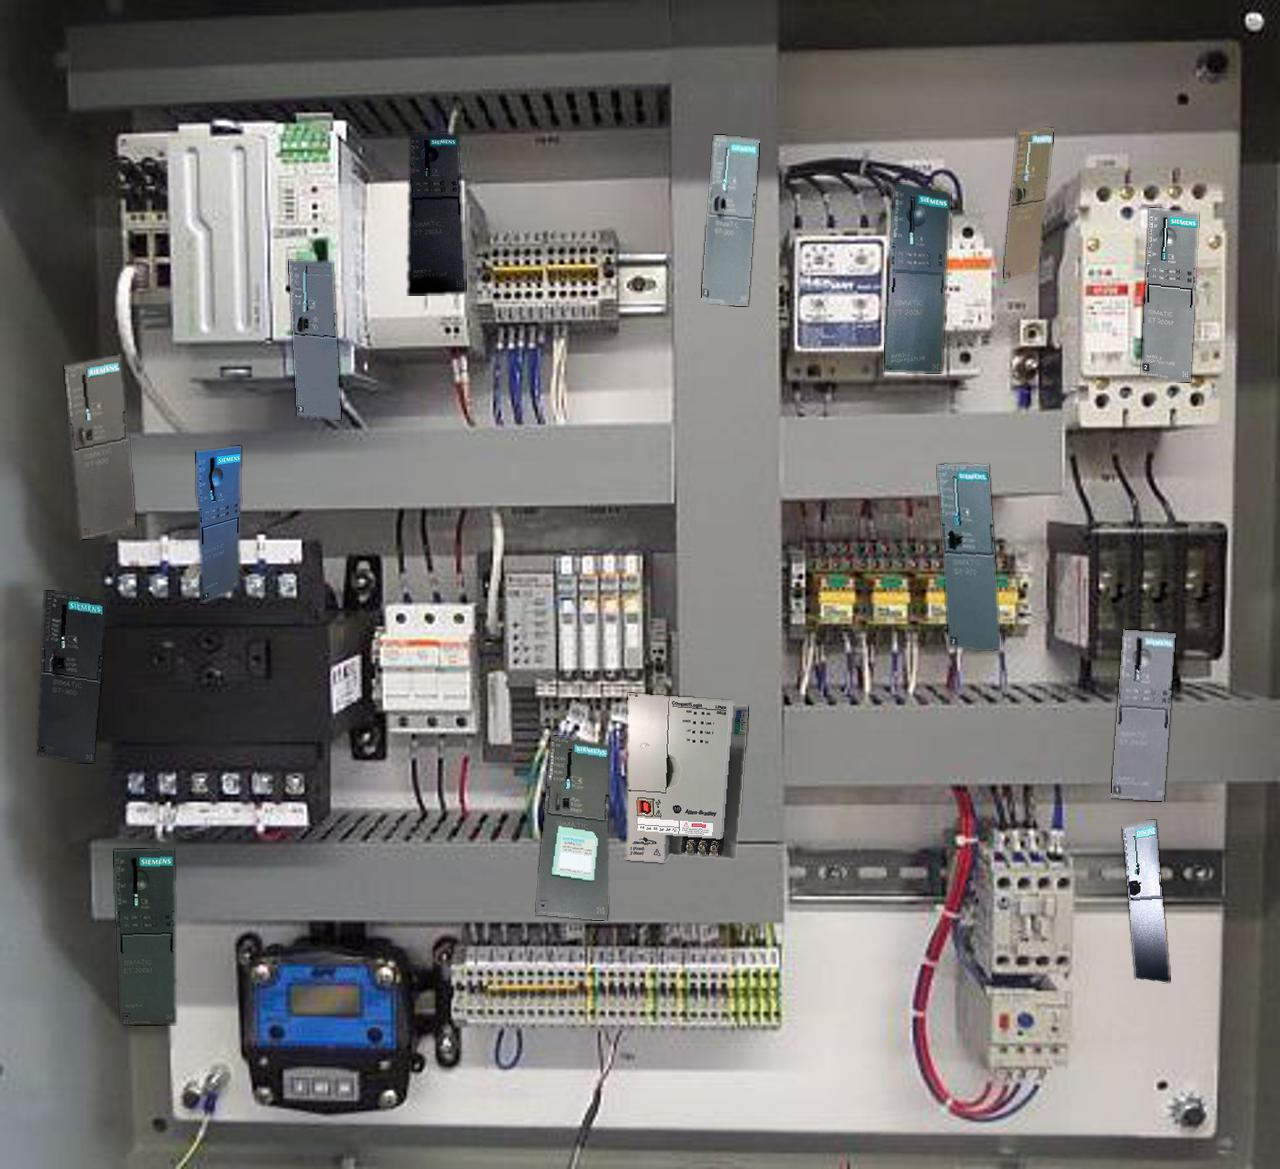AllenBradley: (626, 693, 747, 862)
Siemens: (536, 735, 609, 920), (64, 354, 135, 539), (37, 591, 106, 762), (938, 464, 999, 649), (701, 135, 759, 305), (289, 260, 340, 419), (1122, 820, 1169, 980), (1003, 128, 1053, 281)
